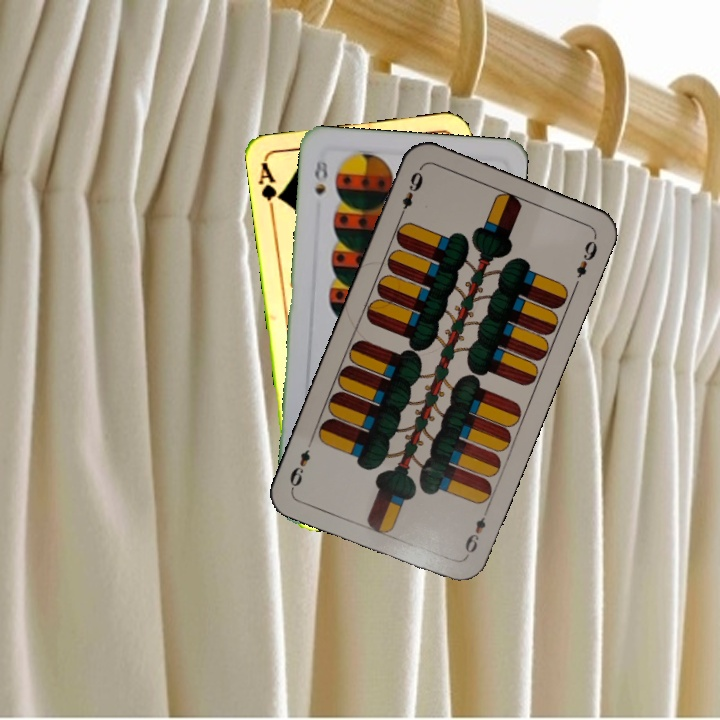E9: (395, 165, 426, 221), (461, 504, 491, 560)
GA: (255, 159, 285, 218)
S8: (310, 156, 331, 198)
